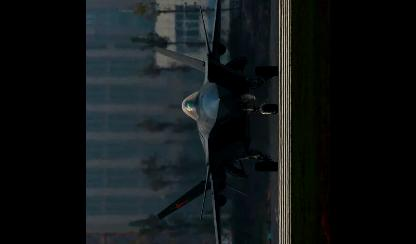F4: (154, 0, 279, 243)
